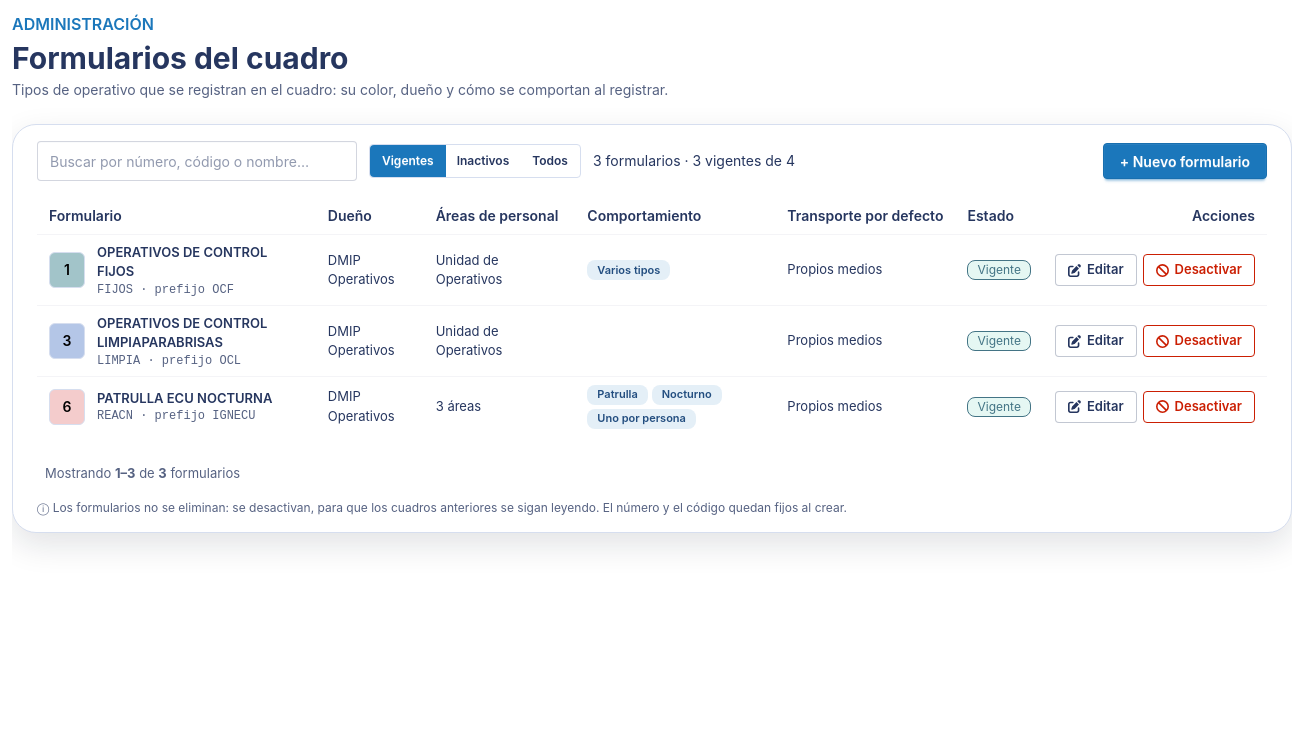
Scenario: tabla y filtro › arranca en Vigentes, con el contador, y «Todos» muestra el inactivo
Expected: the table named "Formularios del cuadro" is shown, x1=37 y1=197 x2=1267 y2=436
Expected: the text "FORMULARIO RETIRADO" is not shown
Click the button "Todos": (550, 161) x1=520 y1=145 x2=580 y2=177
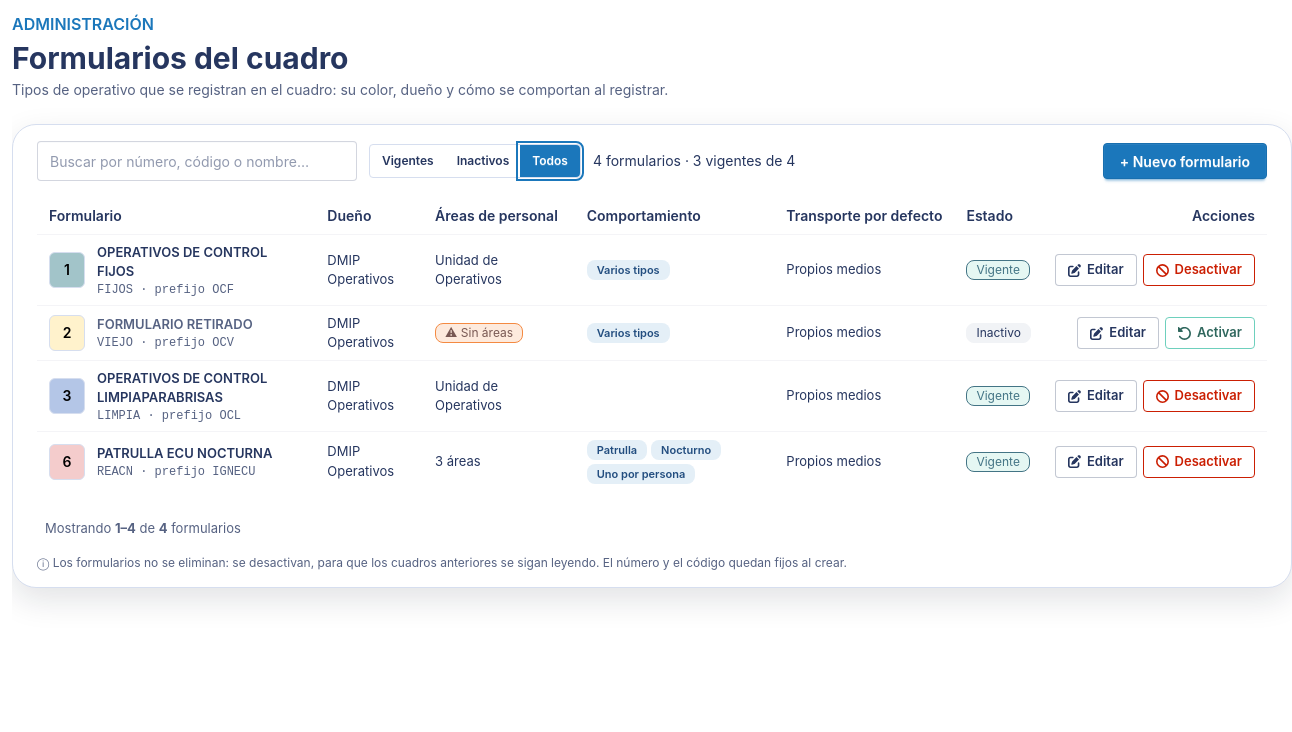
Now the text "Inactivo" is shown, box x1=966 y1=323 x2=1031 y2=343
Click the button "Inactivos": (483, 161) x1=445 y1=145 x2=521 y2=177
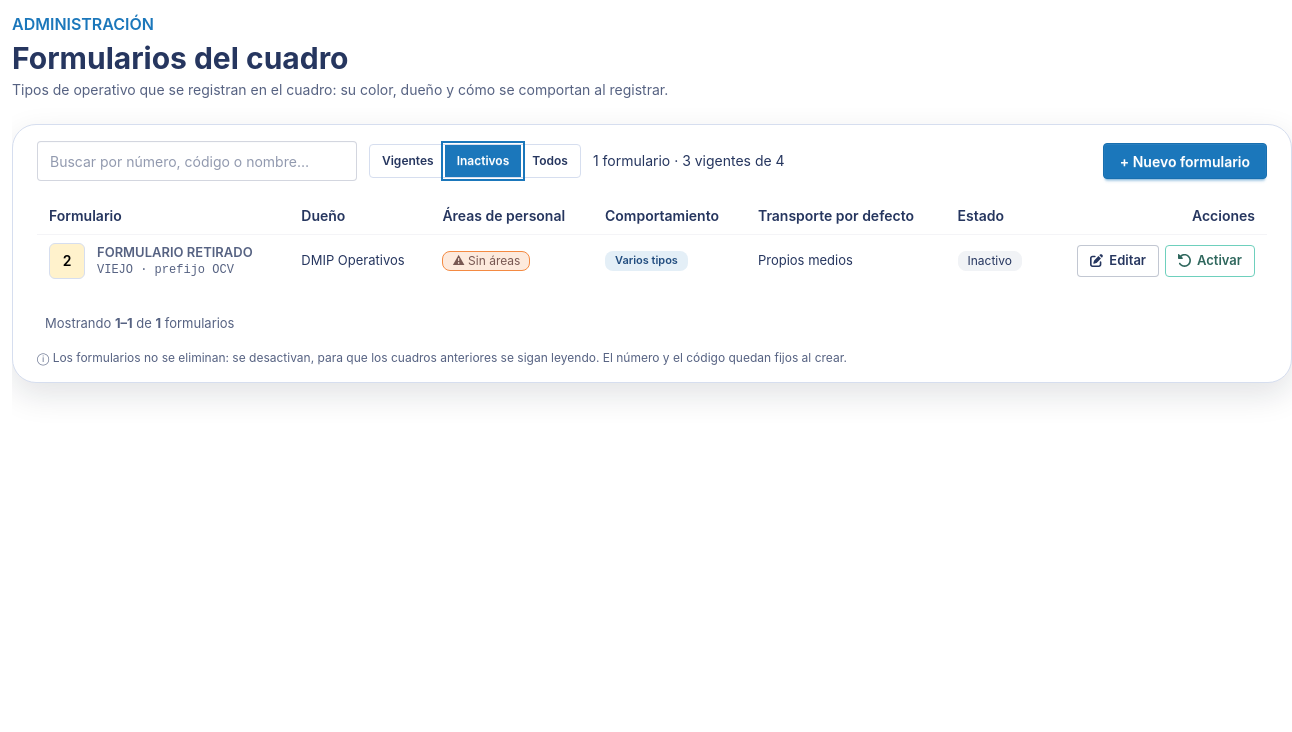
Now the text "OPERATIVOS DE CONTROL FIJOS" is gone
